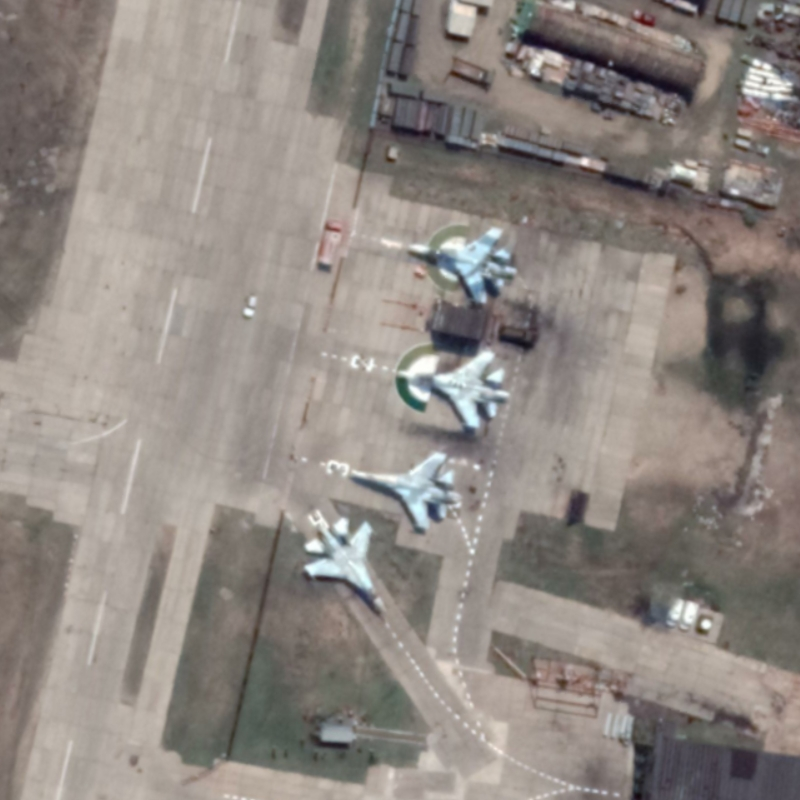A1: (391, 344, 514, 432), (346, 449, 464, 534), (405, 223, 521, 308), (298, 515, 391, 619)
